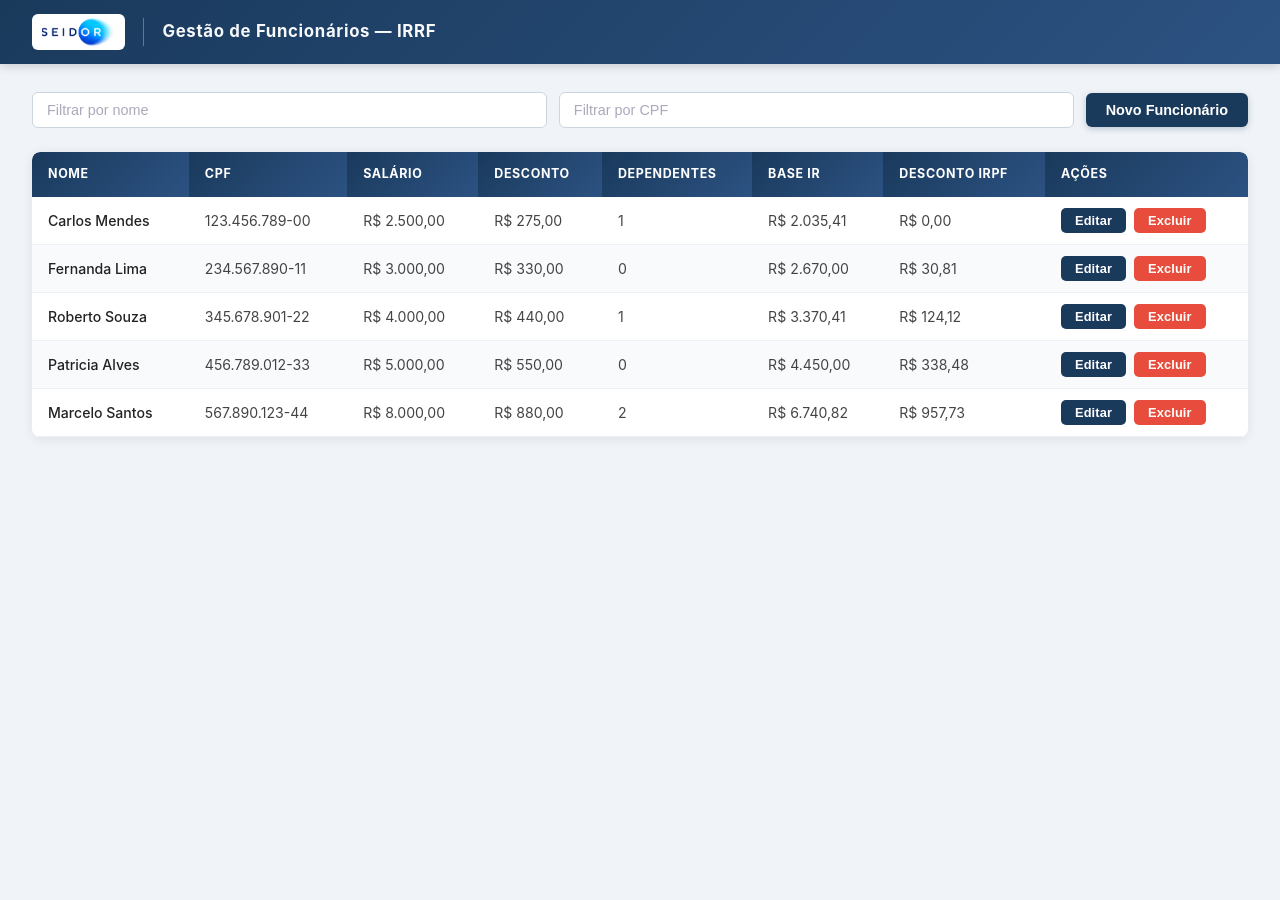
App — integração › exclui funcionário após confirmação no modal
# clica no primeiro botão Excluir da página (tabela tem precedência no DOM)
Click the button "Excluir" in the row of "Carlos Mendes": {"x": 1170, "y": 220} [1134, 208, 1206, 233]
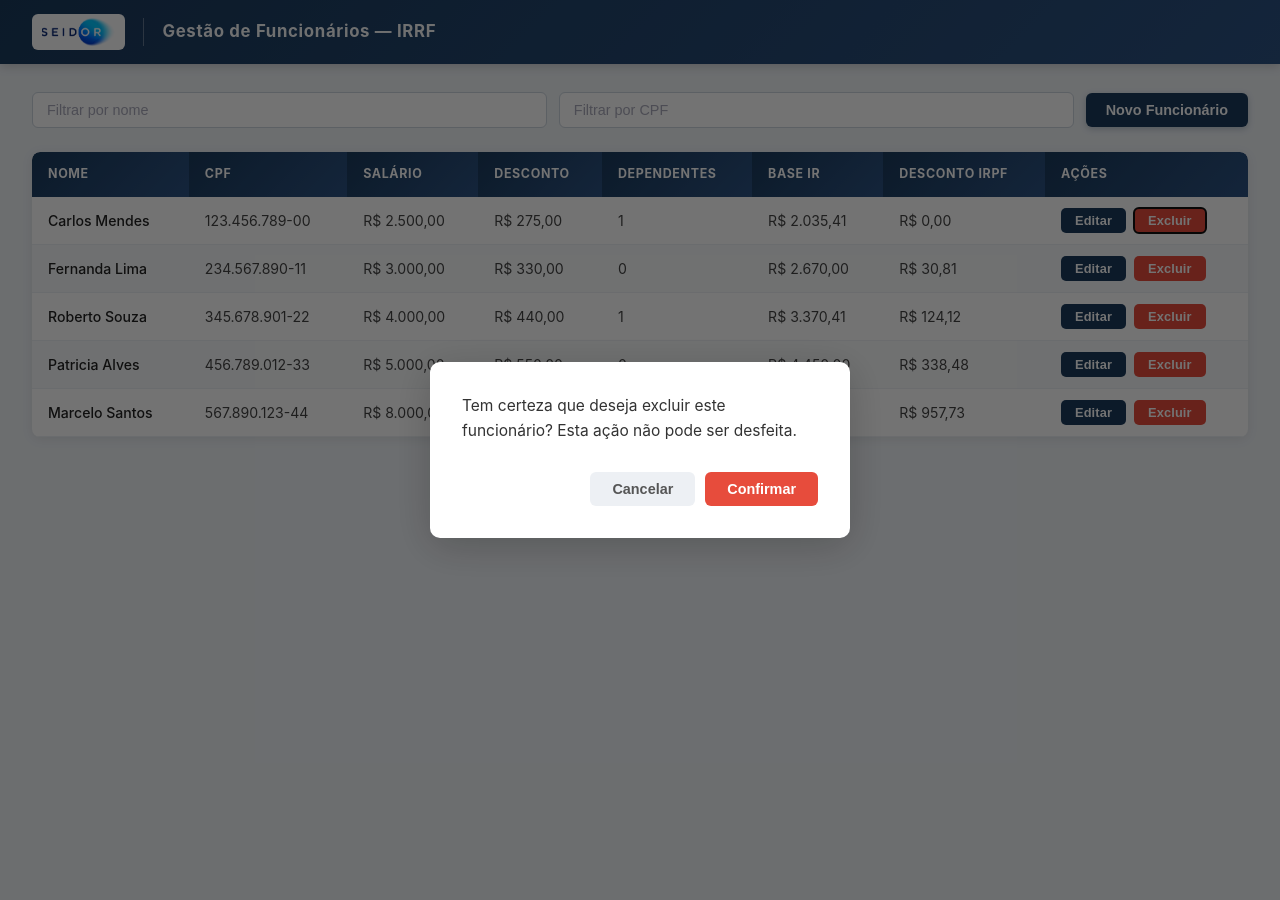
Now the text "Tem certeza que deseja excluir" is shown, box [462, 396, 797, 440]
# confirma a exclusão
Click the button "Confirmar": {"x": 762, "y": 489} [705, 472, 818, 506]
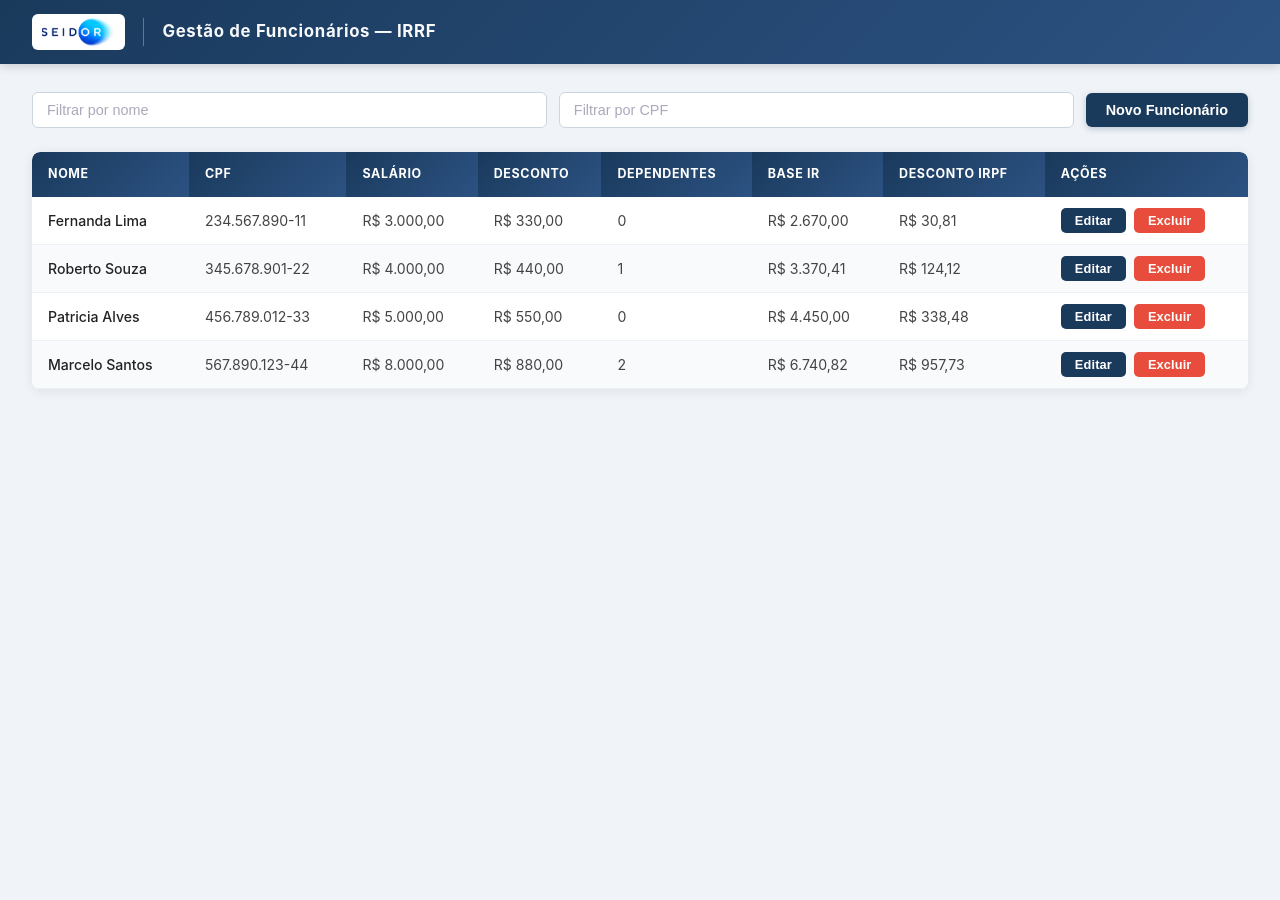
Now the text "Carlos Mendes" is gone
